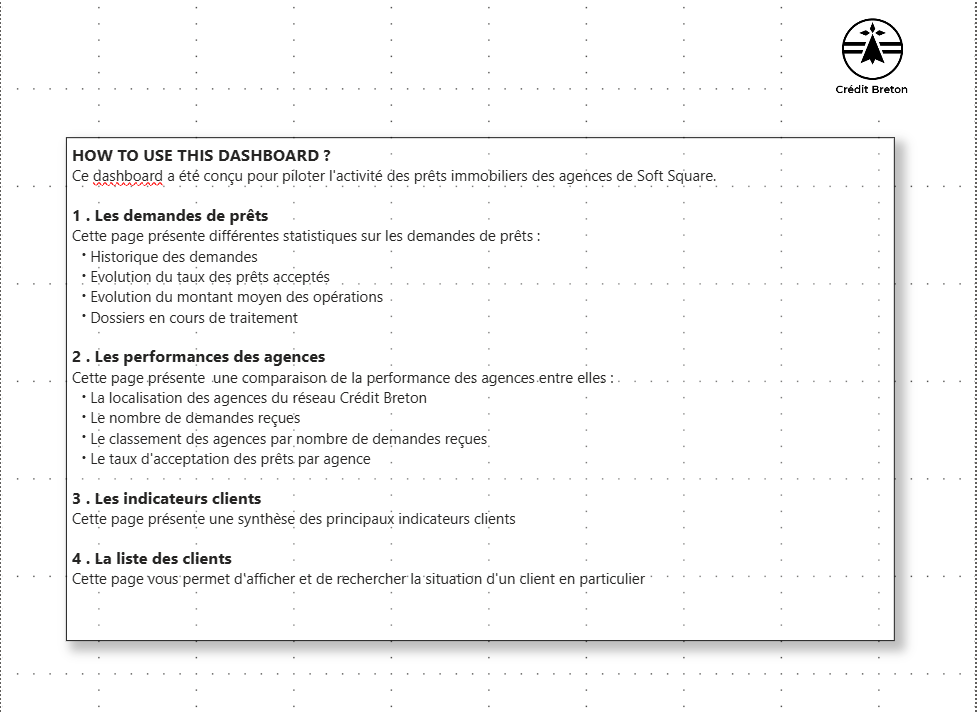

What the dashboard file says about the page in this screenshot:
{"tool":"powerbi","page":{"name":"Accueil","canvas":[960,720],"ordinal":0},"visuals":[{"type":"textbox","box":[64,144,816,496],"z":1000},{"type":"image","box":[768,0,192,128],"z":1001}]}

Visuals, with their boxes in screenshot pixels (x1, y1, x2, y2), scaled from the page's 960x720 canvas onto the 977x713 screenshot:
textbox: [x1=65, y1=143, x2=896, y2=634]
image: [x1=782, y1=0, x2=976, y2=127]
